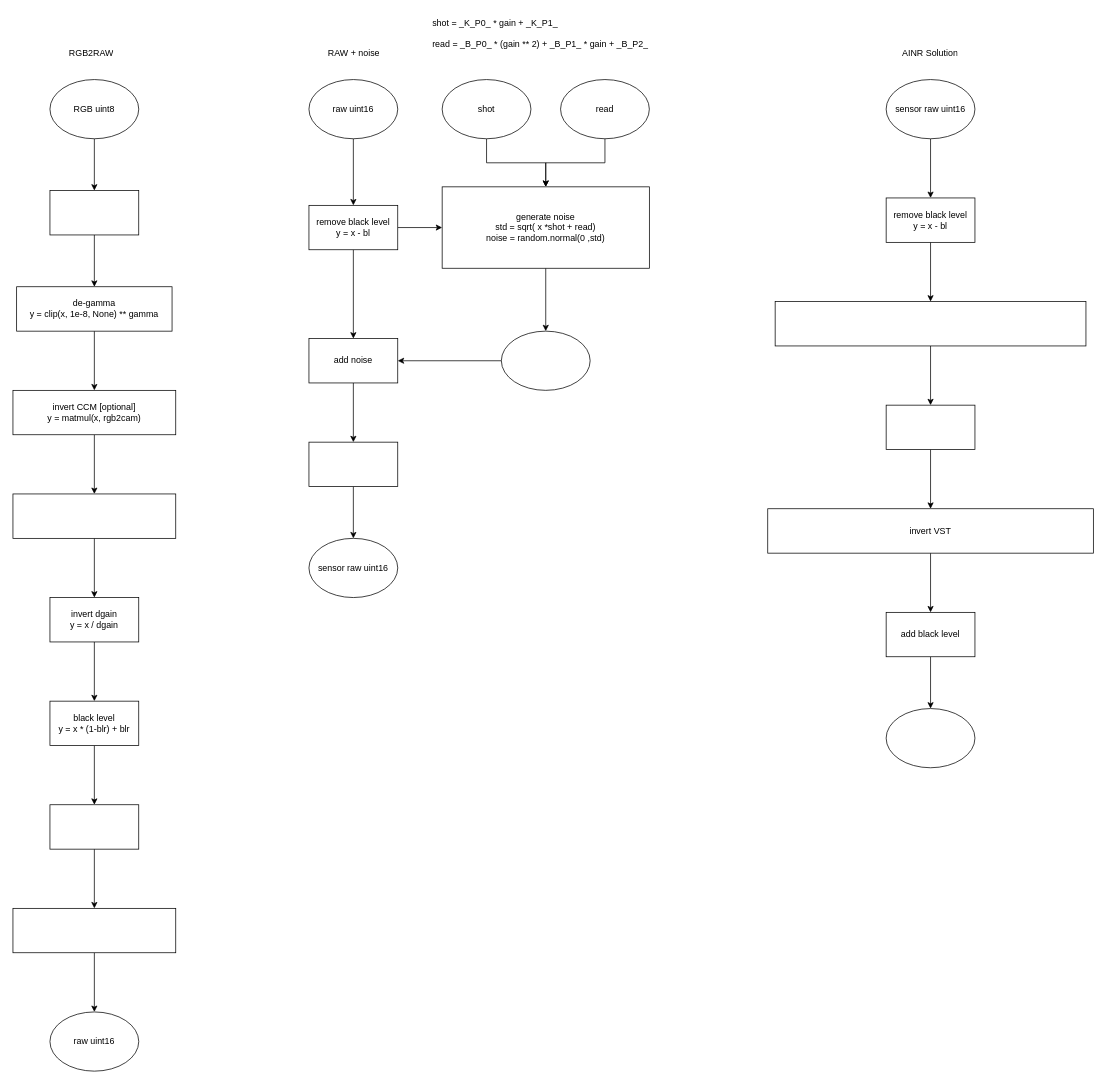
Image size: 1106x1084. Some labels were removed from this diagram. Here are the shapes that lost their labels. From the top down, the centre of each, then its label:
At pixel 94 212: "normalize to [0,1] y = x / 255.0".
At pixel 930 323: "VST y = 2 / shot * sqrt(shot * x + 3.0/8.0 * shot^2 + read )".
At pixel 545 360: "noise".
At pixel 930 427: "AINR".
At pixel 353 464: "add black level y=round(x)+bl".
At pixel 94 515: "invert rgb_gain y = x * safe_gains".
At pixel 930 738: "denoise raw uint16".
At pixel 94 826: "mosaic".
At pixel 94 930: "scaling to dst data range y = x*( (1 << bits) - 1".
